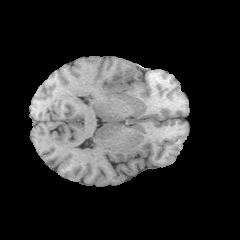glioma: (110, 59, 142, 92)
